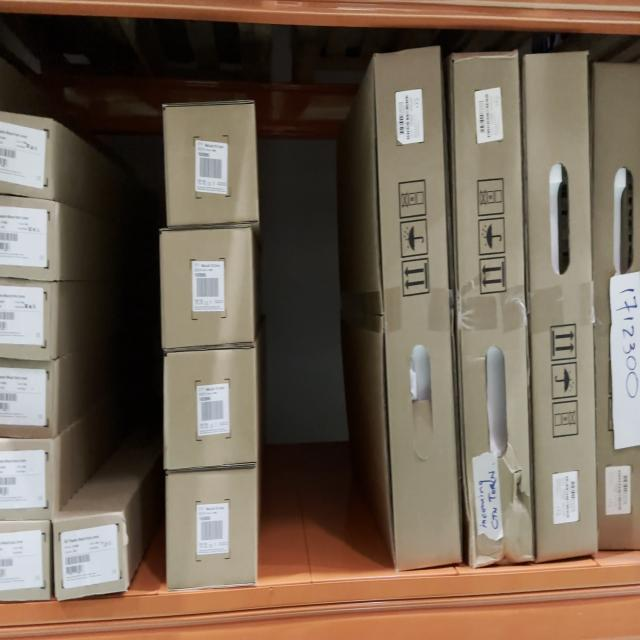box: (373, 52, 465, 572), (449, 56, 534, 565), (522, 54, 602, 558), (169, 475, 259, 583), (165, 233, 251, 346), (168, 352, 255, 463), (171, 103, 254, 217), (57, 519, 127, 591)
